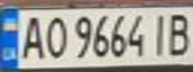4: (127, 10, 151, 57)
6: (90, 11, 112, 60), (109, 11, 130, 58)
9: (69, 11, 93, 60)
A: (15, 12, 48, 61)
B: (163, 9, 193, 56)
I: (148, 10, 172, 56)
O: (39, 12, 69, 60)
